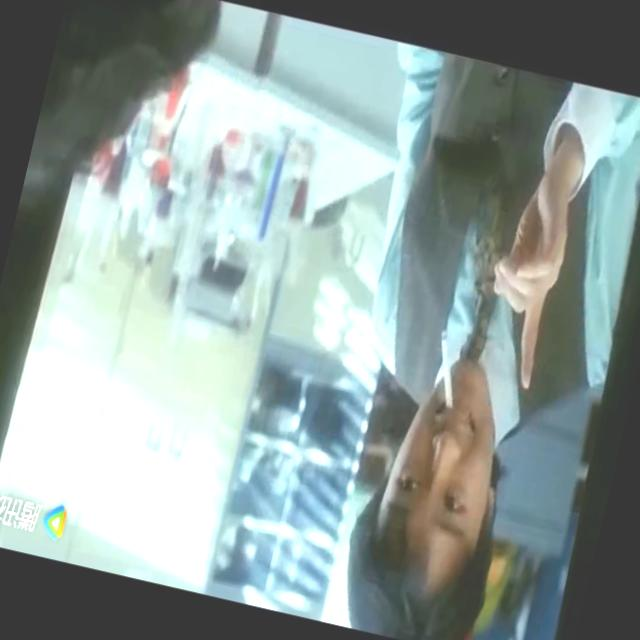cigarette: (420, 314, 473, 418)
